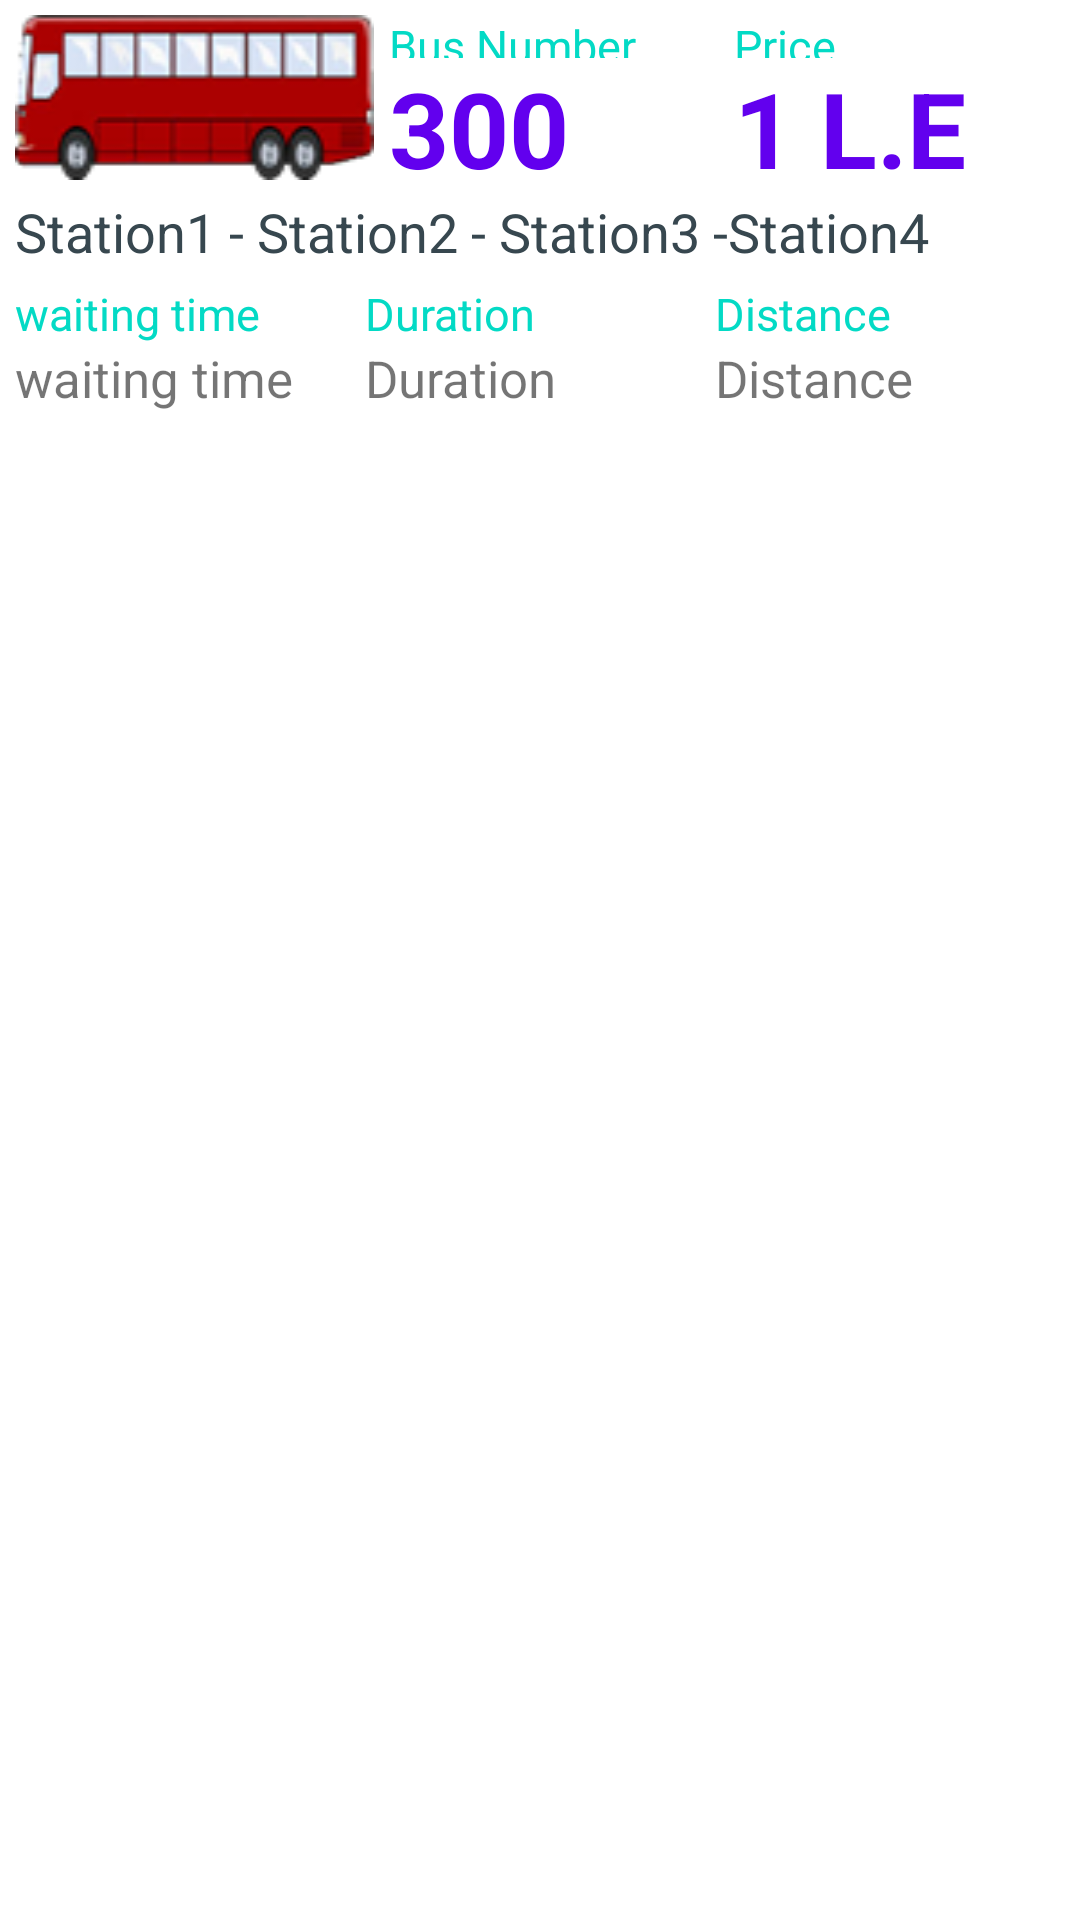

Icons on this 1080 x 1920 Android screen, each with the point to tap as (x,y):
busss: (194,97)
